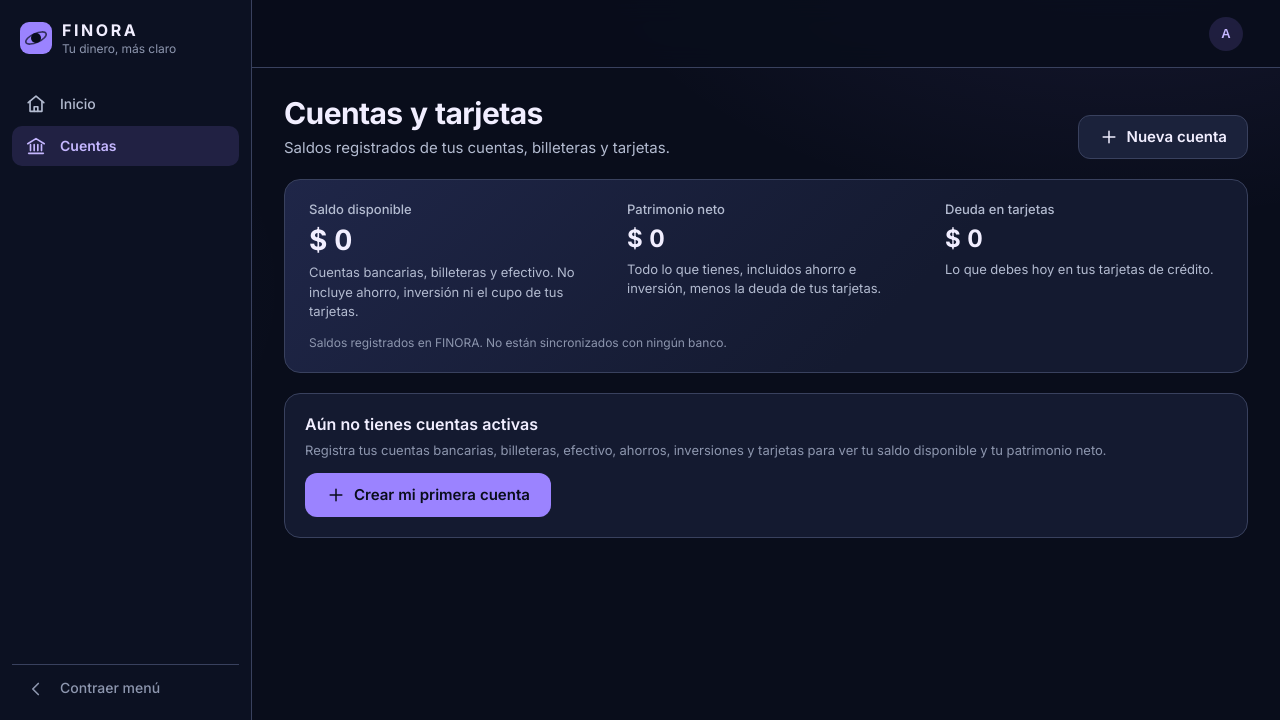
crear cuenta (RF-ACC-01) › el estado vacío invita a crear la primera cuenta (RF-ACC-10)
This screenshot has width=1280, height=720.
Step 1. Click the button "Crear mi primera cuenta" → [428, 495], box [305, 473, 551, 517]
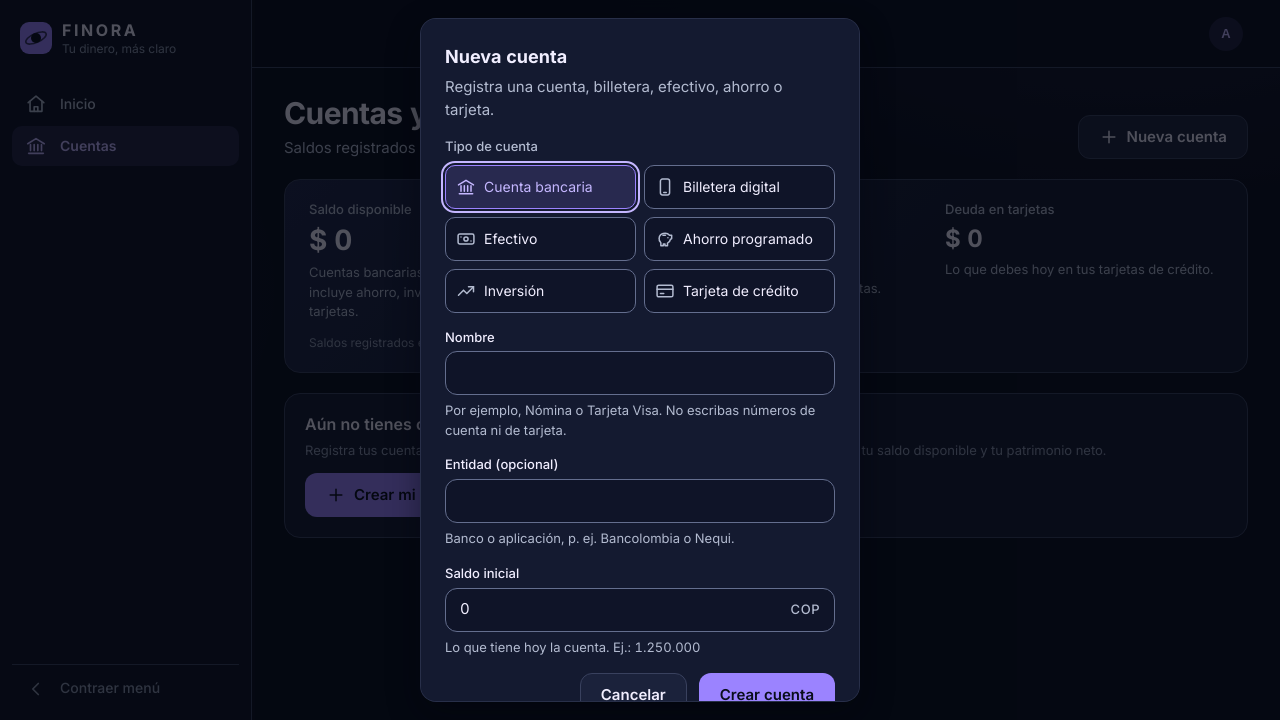
Now the dialog "Nueva cuenta" is shown, box [420, 18, 860, 702]
